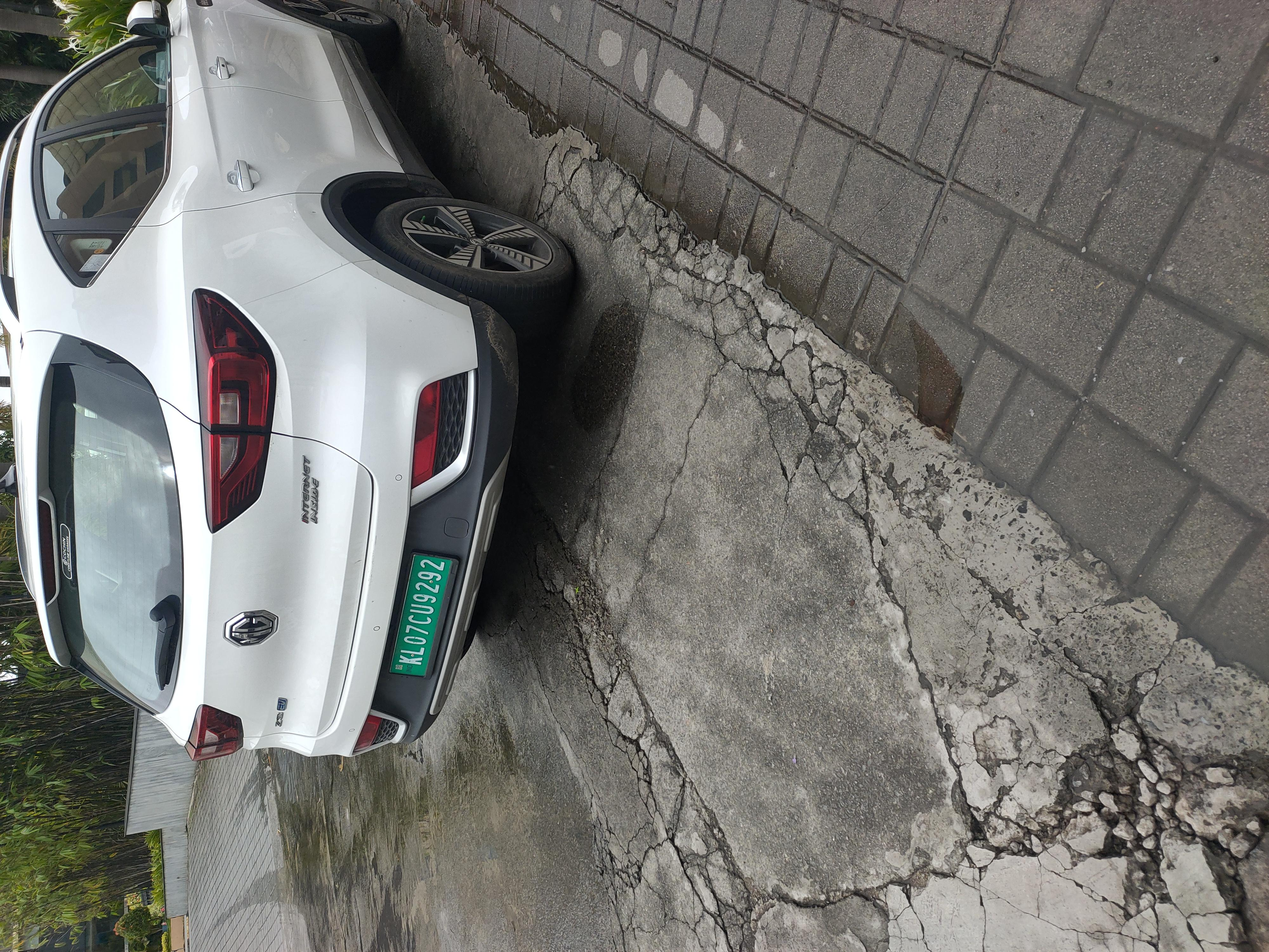green license plate: (363, 286, 545, 342)
